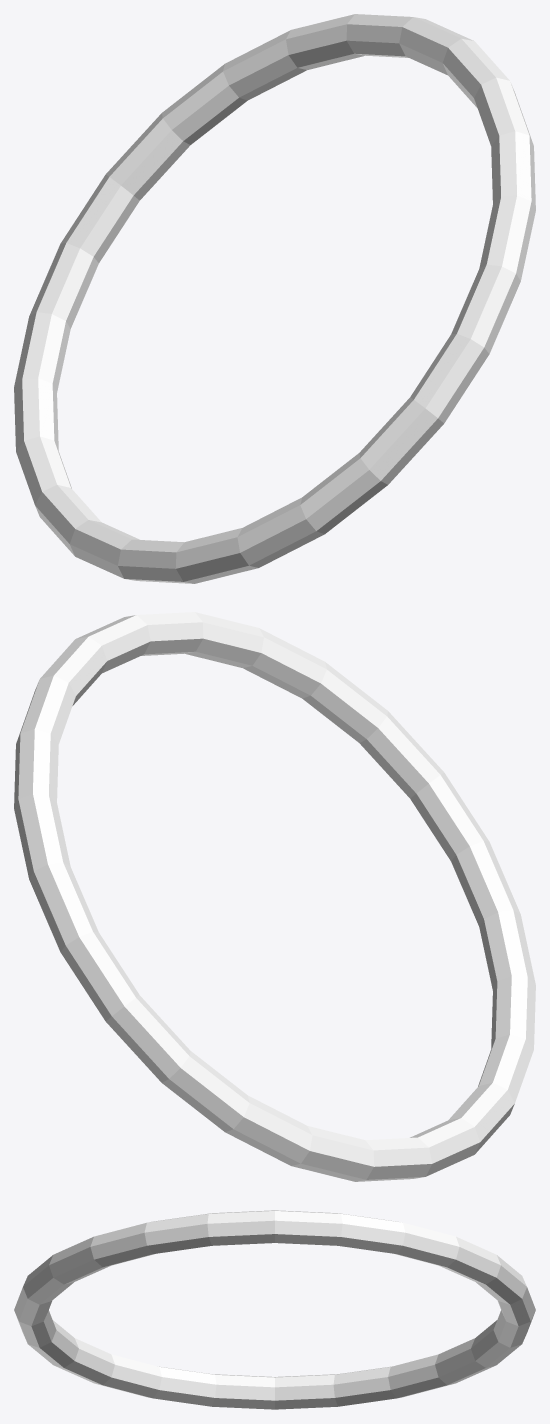
File: pylon_core_2.obj
3 renders of one model, top to bottom at view 1: azimuth 30°, elevation 25°; view 2: azimuth 150°, elevation 25°; view 3: azimuth 270°, elevation 25°, orthographic. The views are drawn at different scales.
Parts seen in each view (by area): view 1: torus; view 2: torus; view 3: torus.
Part boxes in pixels (x1,y1,x2,y2): torus: [14, 14, 535, 583]; torus: [14, 612, 535, 1181]; torus: [14, 1210, 535, 1409].
Size of the model in its own units: 0.3406 by 0.3406 by 0.4688.
1 material, 1 textured.
